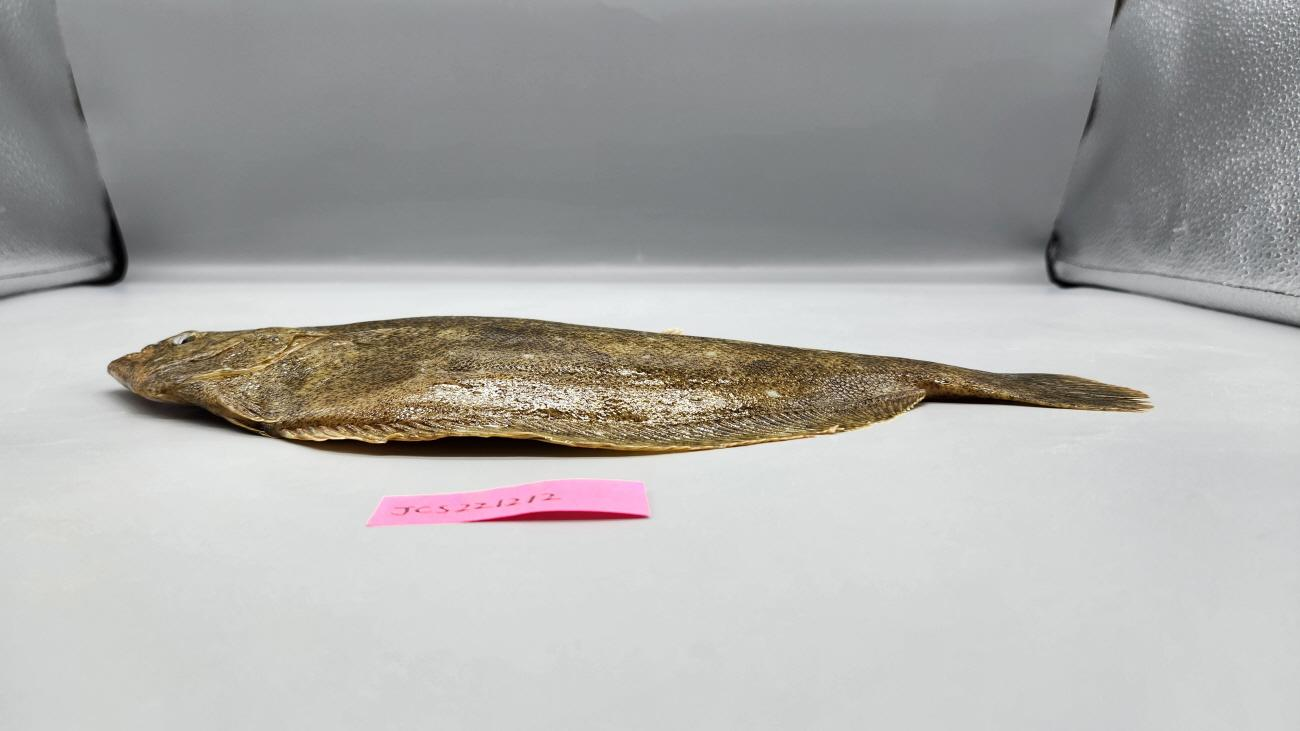POOUN: (104, 314, 1155, 456)
